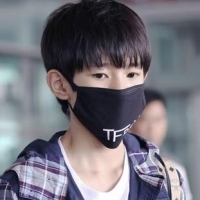face_mask: (71, 39, 145, 132)
